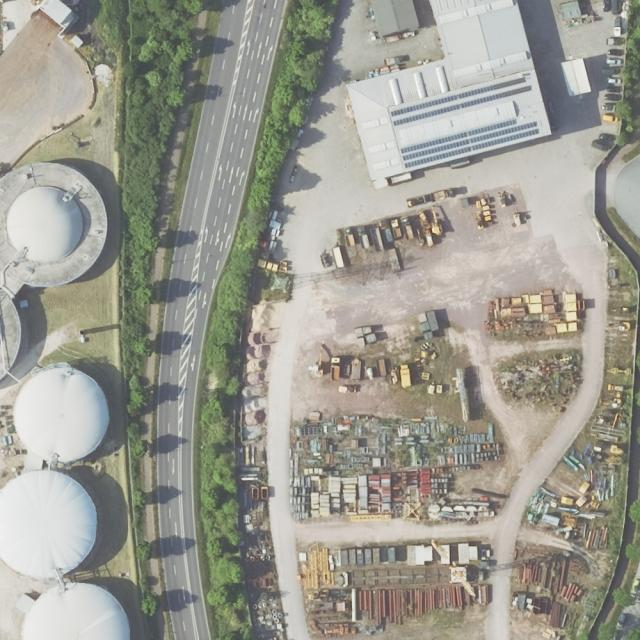PV: (403, 121, 539, 161), (405, 129, 541, 169), (401, 118, 518, 154), (394, 92, 503, 126), (391, 84, 495, 117)
